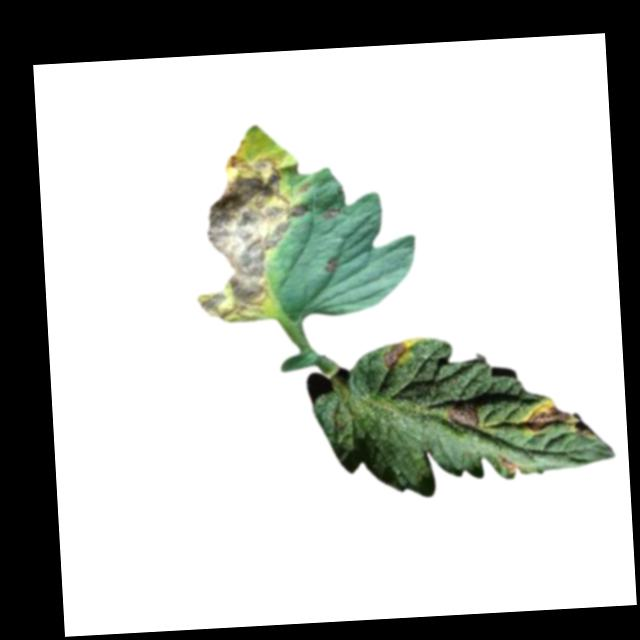Early_blight: (190, 155, 318, 323), (520, 398, 575, 435), (442, 402, 478, 431), (382, 342, 413, 369), (498, 453, 518, 478), (320, 205, 339, 222), (323, 257, 340, 276)
